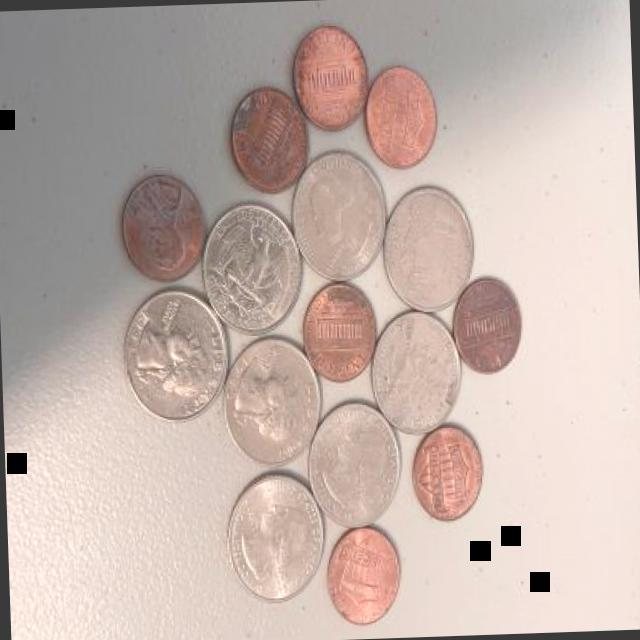Penny: (116, 172, 210, 286), (230, 82, 312, 195), (294, 22, 374, 130), (301, 278, 379, 388), (324, 525, 405, 627), (410, 422, 488, 524), (451, 276, 528, 378), (368, 65, 443, 166)
Quarter: (122, 286, 231, 426), (225, 471, 328, 606), (224, 333, 326, 466), (207, 200, 306, 335), (292, 150, 390, 282), (381, 183, 478, 314), (312, 402, 404, 532), (372, 310, 462, 435)
